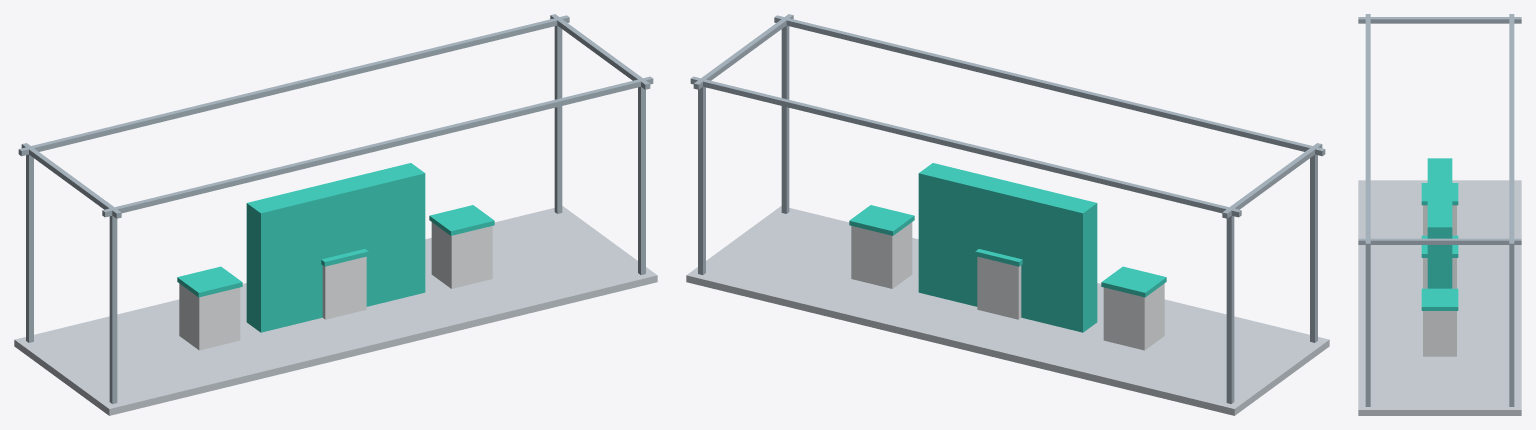
3 views of the same model, side by side, from view 1: azimuth 30°, elevation 25°; view 2: azimuth 150°, elevation 25°; view 3: azimuth 270°, elevation 25° (orthographic). The views are drawn at different scales.
Visible parts, largest first — view 1: Exhibition Booth Concept; view 2: Exhibition Booth Concept; view 3: Exhibition Booth Concept.
Boxes of the visible parts, x1,y1,x2,y2 form: Exhibition Booth Concept: [14, 14, 657, 415]; Exhibition Booth Concept: [686, 14, 1329, 415]; Exhibition Booth Concept: [1358, 14, 1521, 415].
Size of the model in its own units: 10 by 3.49 by 3.
